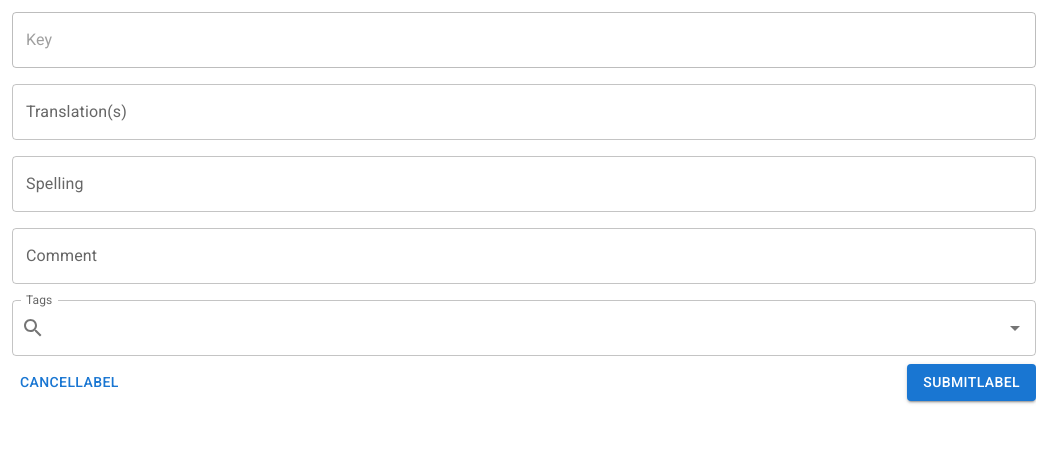
Root Form › should display error, when submitted without translation(s)
What coordinates should you click on to do the following:
click the button with aria-label "save"
I would click on:
 (972, 382)
Its box is [907, 364, 1036, 400].
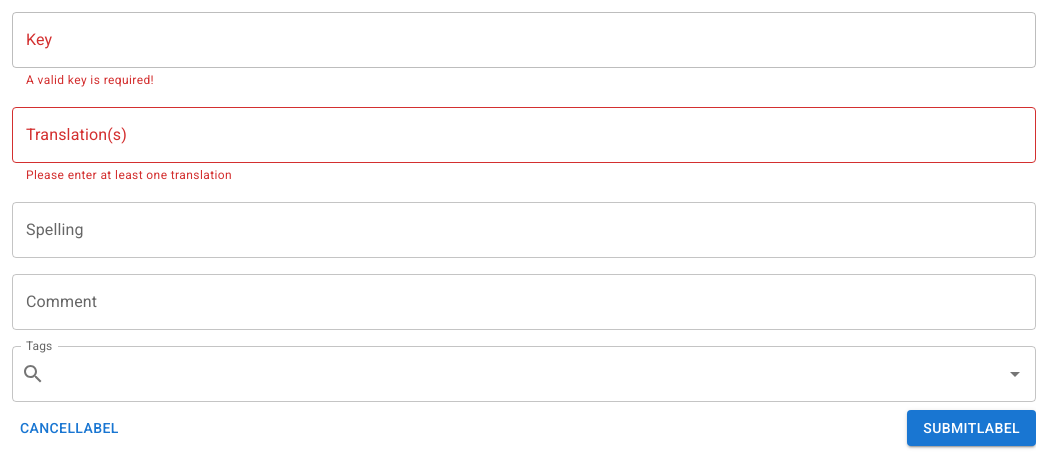
Result: the text "Please enter at least one translation" is shown at [26, 168, 232, 182]
